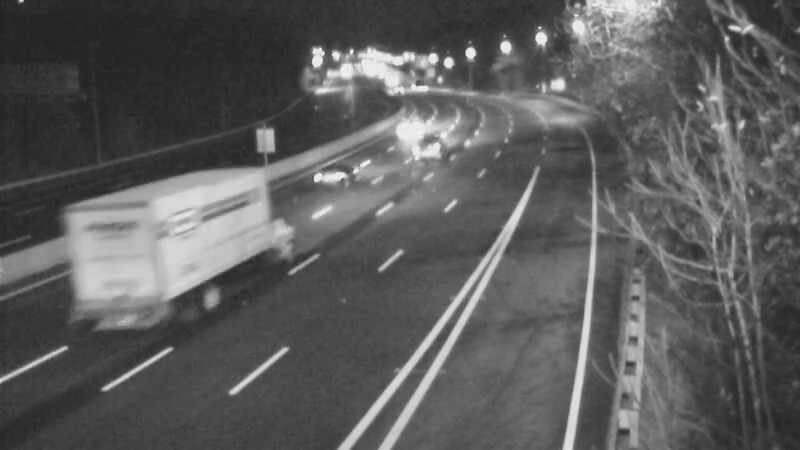vehicle: (288, 138, 368, 218), (117, 214, 197, 294), (393, 56, 443, 106), (374, 64, 424, 114), (388, 104, 438, 154), (409, 124, 459, 174)
